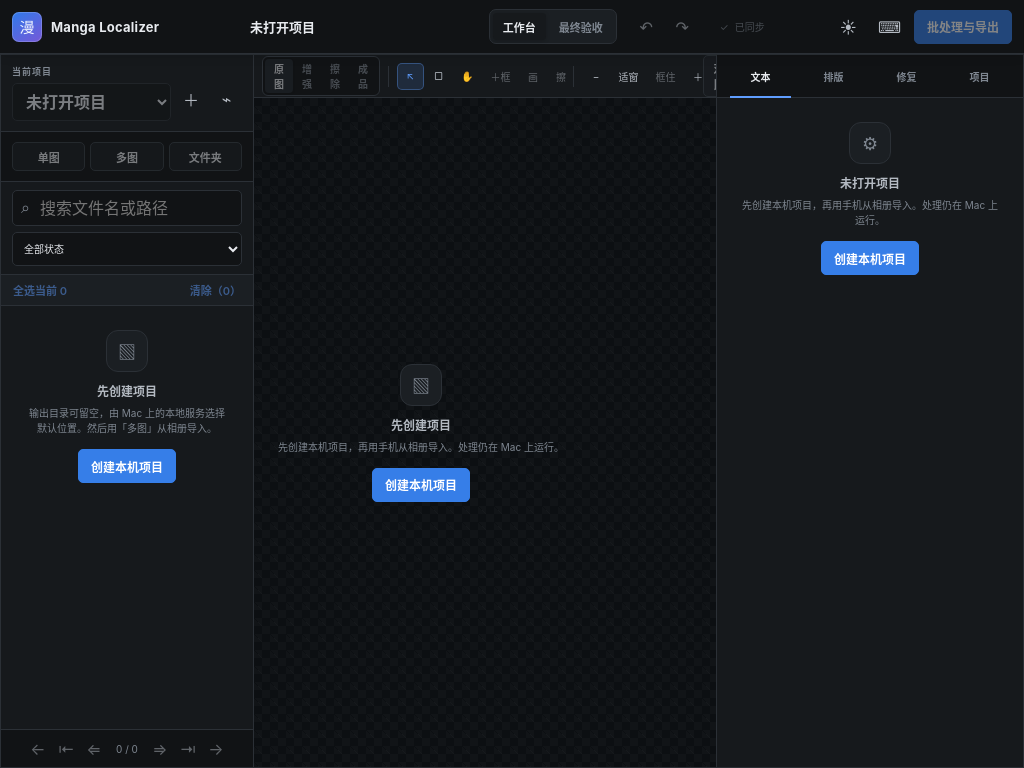
Test: desktop workbench interactions › opens create-project from the empty canvas
Expected: the element with class "canvas-panel" is shown, [254,55,716,767]
Step 1. Click the 3rd button "创建本机项目" → (421, 484), box [372,468,470,502]
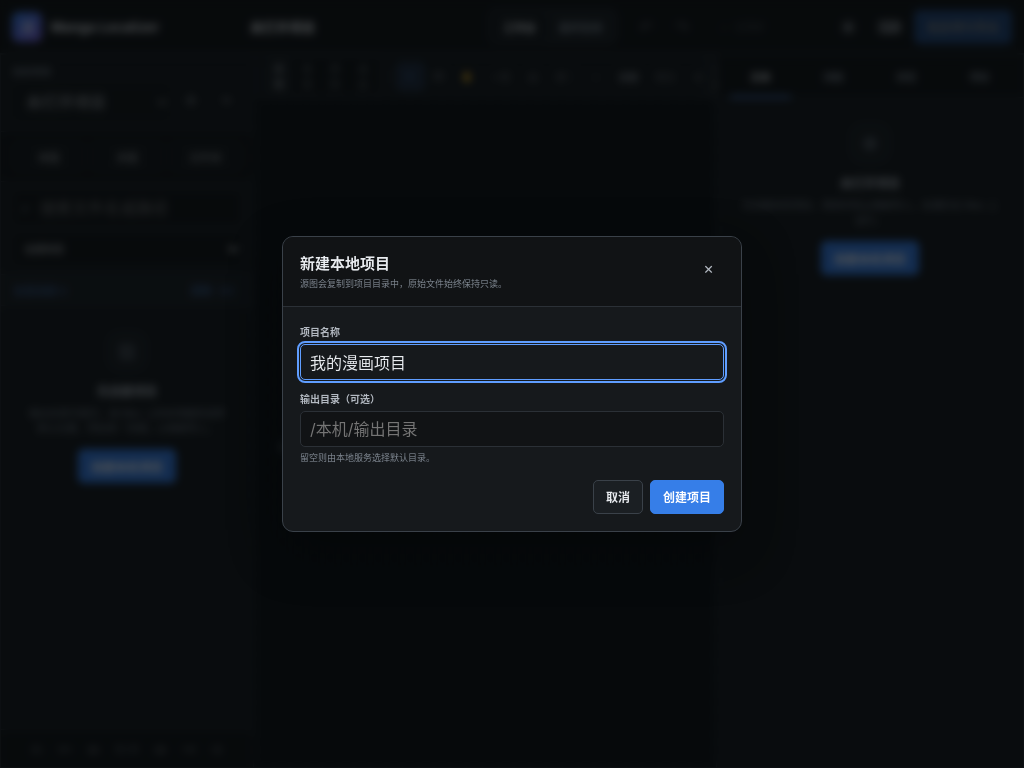
Now the dialog "新建本地项目" is shown, box [282,236,742,532]
